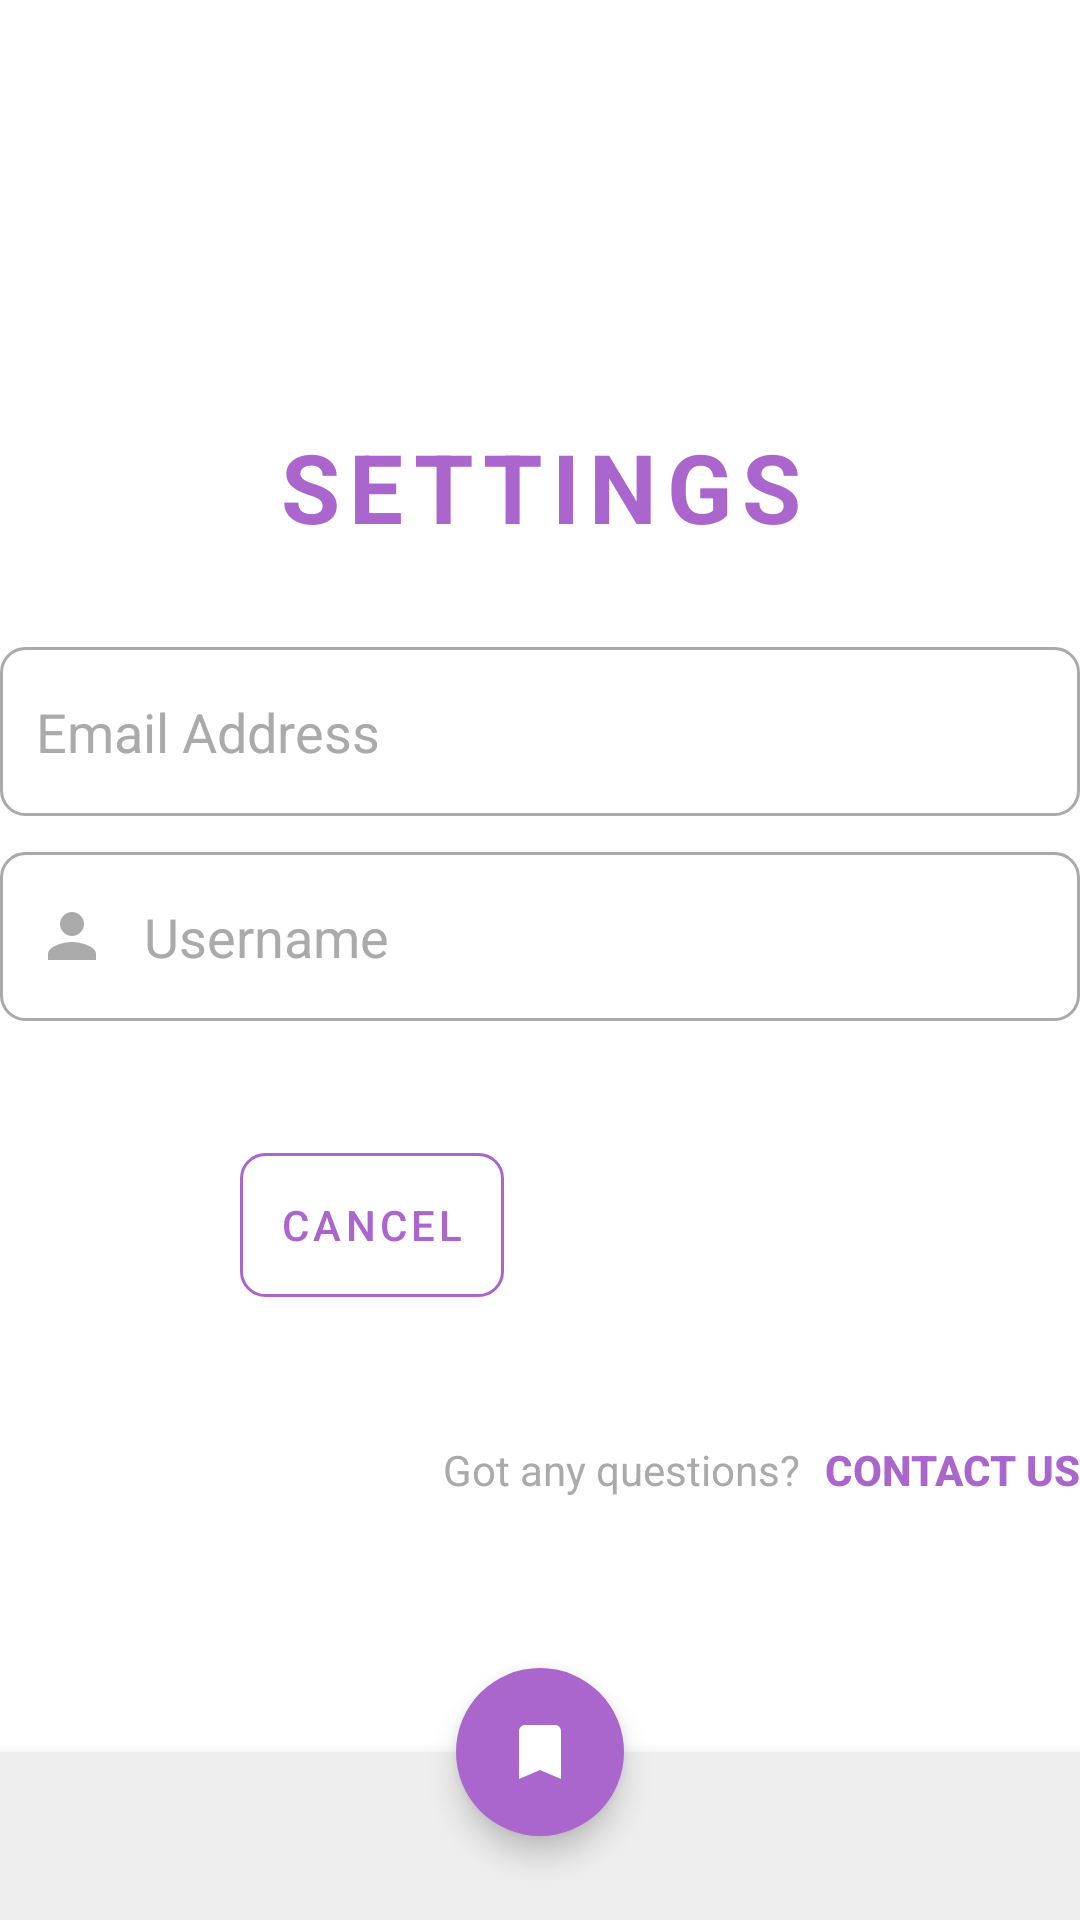

Named icons in this screenshot (1080*1920) and their bounding boxes, detection(x1, y1, x2, y2):
bookings: detection(456, 1668, 624, 1836)
